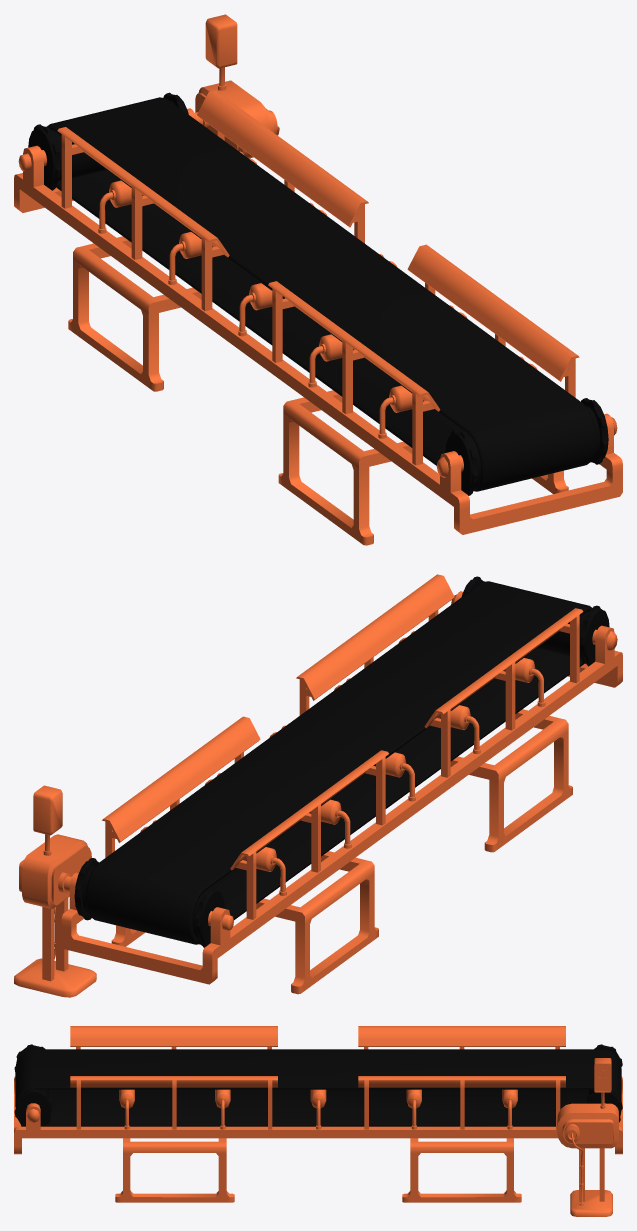
Rendered from conveyorbelt.fbx.
The picture shows the model from 3 angles, top to bottom: view 1: azimuth 30°, elevation 25°; view 2: azimuth 150°, elevation 25°; view 3: azimuth 270°, elevation 25°; orthographic projection. The views are drawn at different scales.
Parts seen in each view (by area): view 1: ConveyorBelt; view 2: ConveyorBelt; view 3: ConveyorBelt.
Part boxes in pixels (x1,y1,x2,y2): ConveyorBelt: (14,14,622,545); ConveyorBelt: (14,574,622,997); ConveyorBelt: (14,1026,622,1216).
Bounding box in the file's own units: 377 × 306 × 1163.
